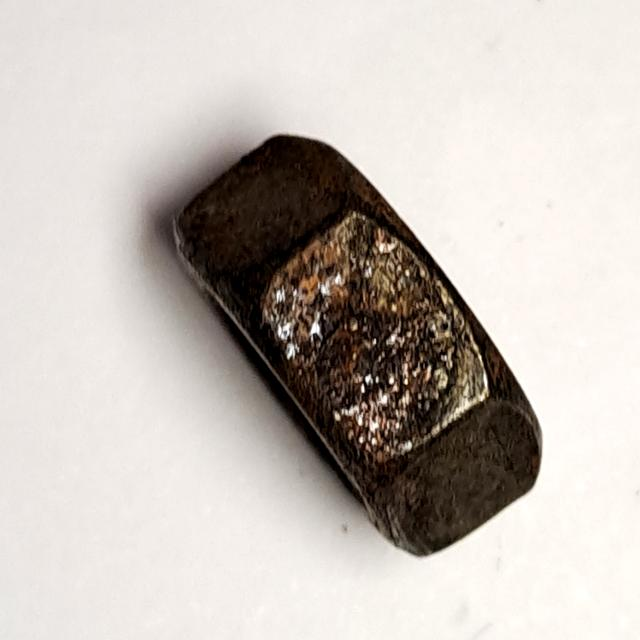Side_Rust: (158, 119, 564, 572)
